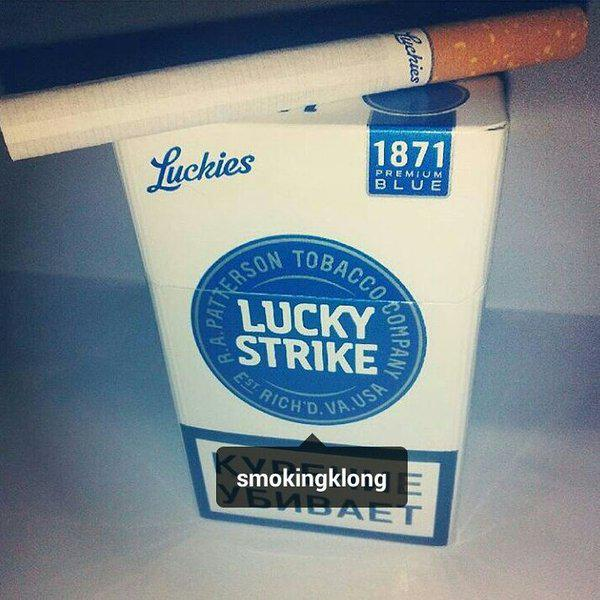lucky_strike_blue: (175, 129, 460, 502)
